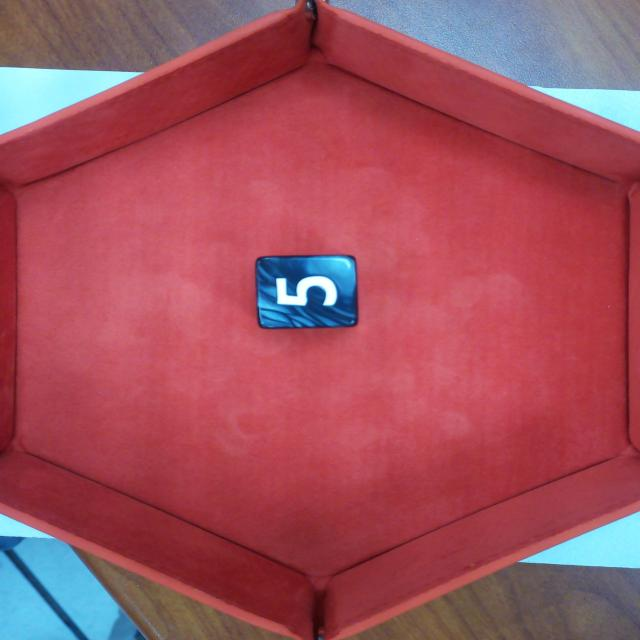dice: (255, 253, 362, 331)
